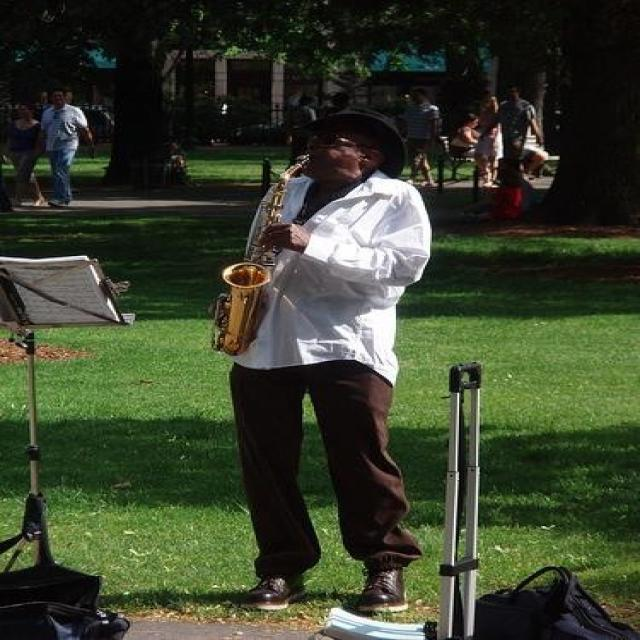saxophone: (214, 150, 312, 357)
